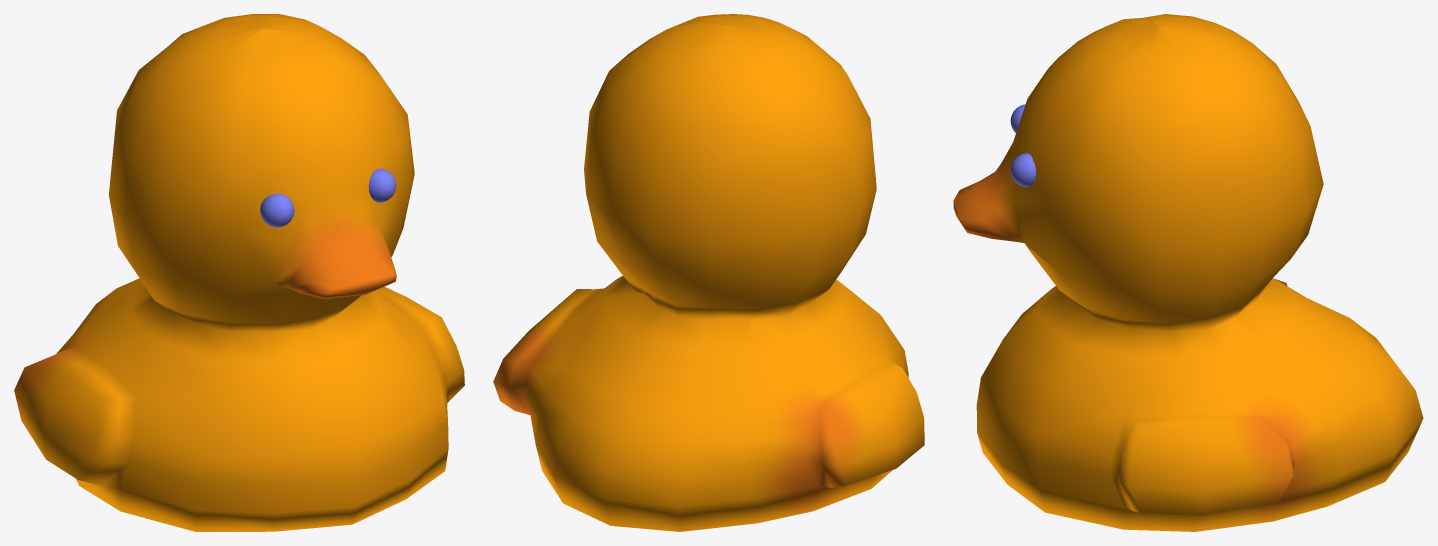
The model's file is duck.fbx.
3 views of the same model, side by side, from view 1: azimuth 30°, elevation 25°; view 2: azimuth 150°, elevation 25°; view 3: azimuth 270°, elevation 25° (orthographic). The views are drawn at different scales.
Visible parts, largest first — view 1: Duck, duck_left_eye, duck_right_eye; view 2: Duck; view 3: Duck, duck_right_eye.
Part boxes in pixels (x1,y1,x2,y2): Duck: [14, 14, 464, 531]; duck_left_eye: [260, 193, 294, 227]; duck_right_eye: [368, 168, 396, 202]; Duck: [493, 14, 924, 531]; Duck: [953, 14, 1423, 531]; duck_right_eye: [1010, 153, 1035, 186].
Size of the model in its own units: 0.3674 by 0.3864 by 0.3877.
